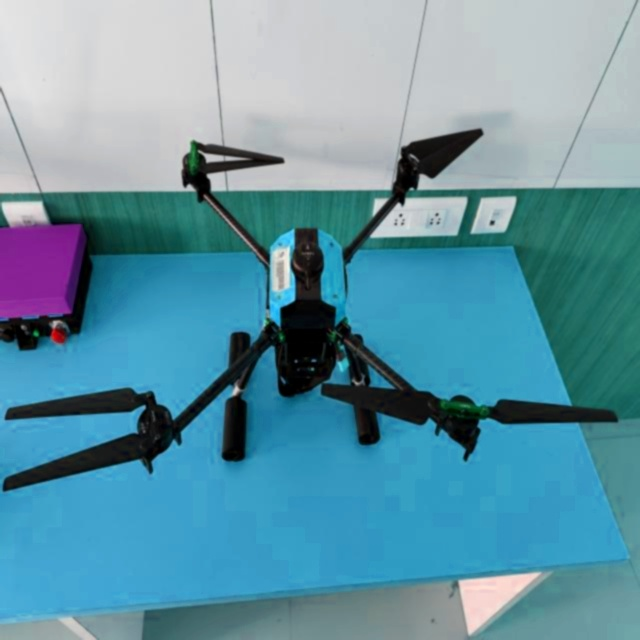quadcopter: (0, 122, 626, 503)
